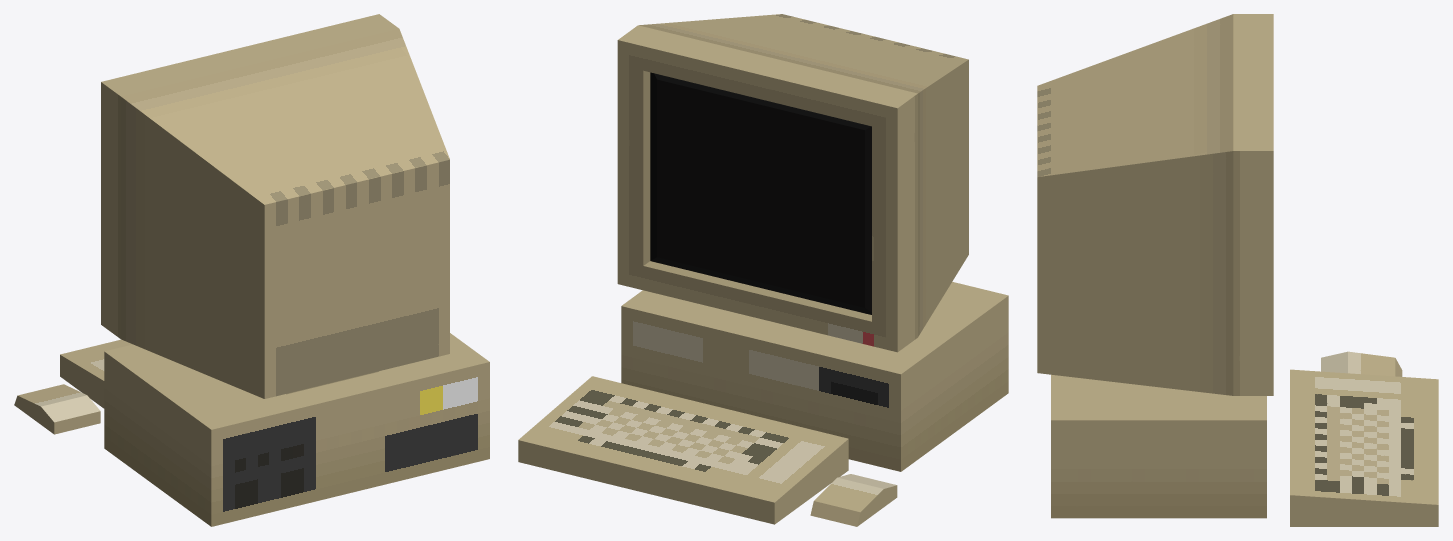
File: old_pc.gltf
3 views of the same model, side by side, from view 1: azimuth 30°, elevation 25°; view 2: azimuth 150°, elevation 25°; view 3: azimuth 270°, elevation 25° (orthographic).
Parts seen in each view (by area): view 1: monitor, pc, mouse, keyboard; view 2: monitor, pc, keyboard, mouse; view 3: monitor, pc, keyboard, mouse.
Boxes of the visible parts, x1=… form: monitor: x1=101, y1=14, x2=449, y2=398; pc: x1=104, y1=333, x2=489, y2=526; mouse: x1=14, y1=384, x2=100, y2=434; keyboard: x1=60, y1=339, x2=132, y2=408; monitor: x1=617, y1=14, x2=968, y2=352; pc: x1=621, y1=282, x2=1008, y2=471; keyboard: x1=518, y1=376, x2=848, y2=524; mouse: x1=810, y1=474, x2=897, y2=526; monitor: x1=1037, y1=14, x2=1273, y2=395; pc: x1=1051, y1=374, x2=1266, y2=518; keyboard: x1=1290, y1=369, x2=1438, y2=526; mouse: x1=1321, y1=351, x2=1402, y2=376.
Size of the model in its own units: 0.8594 by 0.9375 by 0.9281.
1 material, 1 textured.
